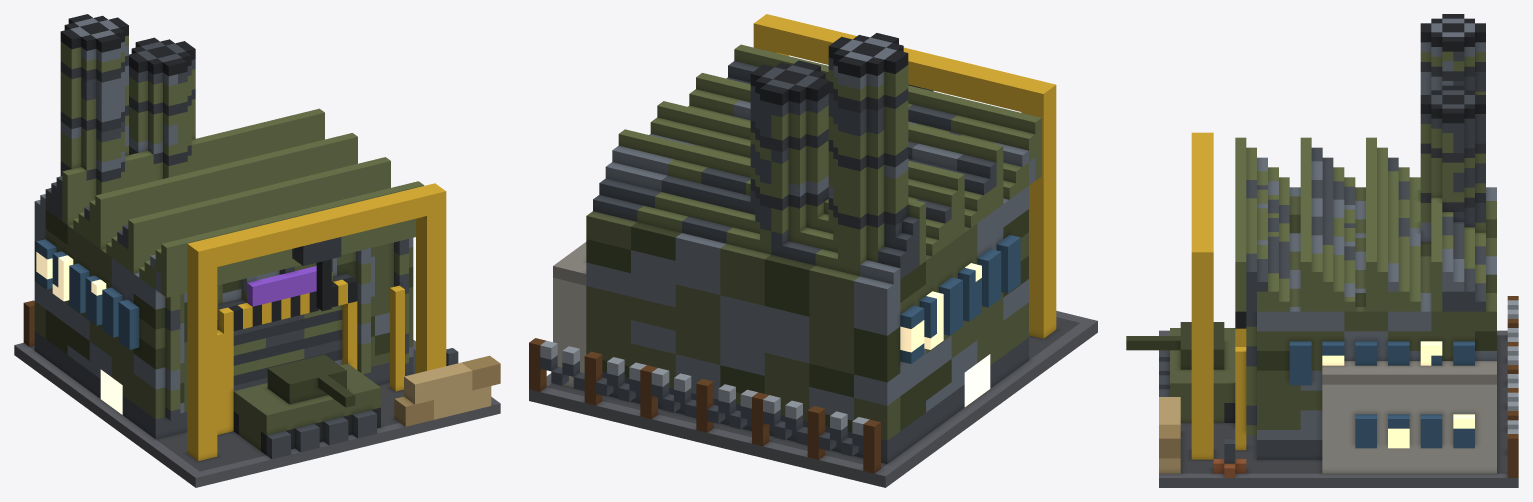
Rendered from cm_factory_4.glb.
The picture shows the model from 3 angles, left to right: view 1: azimuth 30°, elevation 25°; view 2: azimuth 150°, elevation 25°; view 3: azimuth 270°, elevation 25°; orthographic projection. The views are drawn at different scales.
Visible parts, largest first — view 1: cm_factory_4_body; view 2: cm_factory_4_body; view 3: cm_factory_4_body.
Boxes of the visible parts, left/top/right/bottom form: cm_factory_4_body: left=14, top=14, right=500, bottom=487; cm_factory_4_body: left=529, top=14, right=1097, bottom=487; cm_factory_4_body: left=1126, top=14, right=1518, bottom=487.
Bounding box in the file's own units: 2 × 2.12 × 2.25.
Materials: 1 (1 with a texture image).
